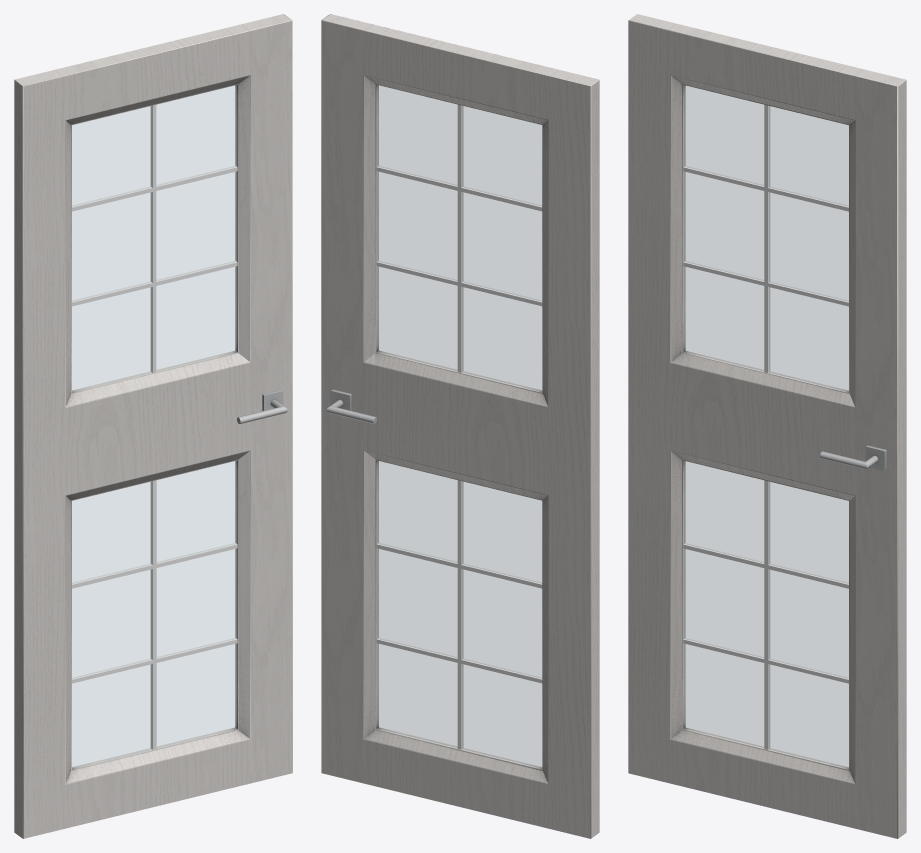
The model's file is door3.glb.
3 renders of one model, left to right at view 1: azimuth 30°, elevation 25°; view 2: azimuth 150°, elevation 25°; view 3: azimuth 330°, elevation 25°, orthographic.
Visible parts, largest first — view 1: doorColonialFullWin, glass, frameBtm, frameTop, handle; view 2: doorColonialFullWin, glass, frameBtm, frameTop, handle; view 3: doorColonialFullWin, glass, frameBtm, frameTop, handle.
Part boxes in pixels (x1,y1,x2,y2): doorColonialFullWin: [14, 14, 292, 838]; glass: [72, 85, 236, 768]; frameBtm: [72, 480, 237, 749]; frameTop: [72, 105, 237, 372]; handle: [237, 389, 287, 424]; doorColonialFullWin: [321, 14, 599, 838]; glass: [377, 85, 541, 768]; frameBtm: [376, 480, 542, 749]; frameTop: [376, 104, 542, 372]; handle: [326, 389, 377, 423]; doorColonialFullWin: [628, 14, 906, 838]; glass: [684, 85, 848, 768]; frameBtm: [683, 480, 848, 749]; frameTop: [683, 104, 848, 372]; handle: [820, 445, 886, 471].
Bounding box in the file's own units: 0.3076 × 0.8199 × 0.068.
Materials: 4 (2 with a texture image).
